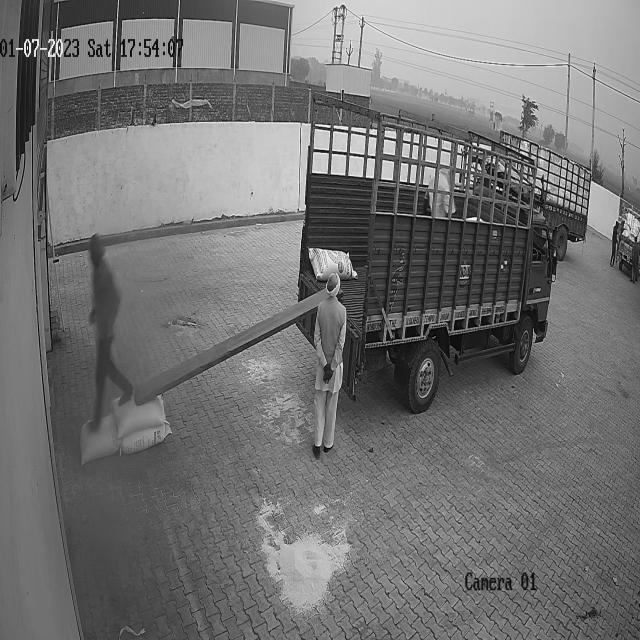sack: (112, 393, 164, 436), (81, 414, 118, 465), (308, 246, 358, 282), (119, 422, 171, 454)
